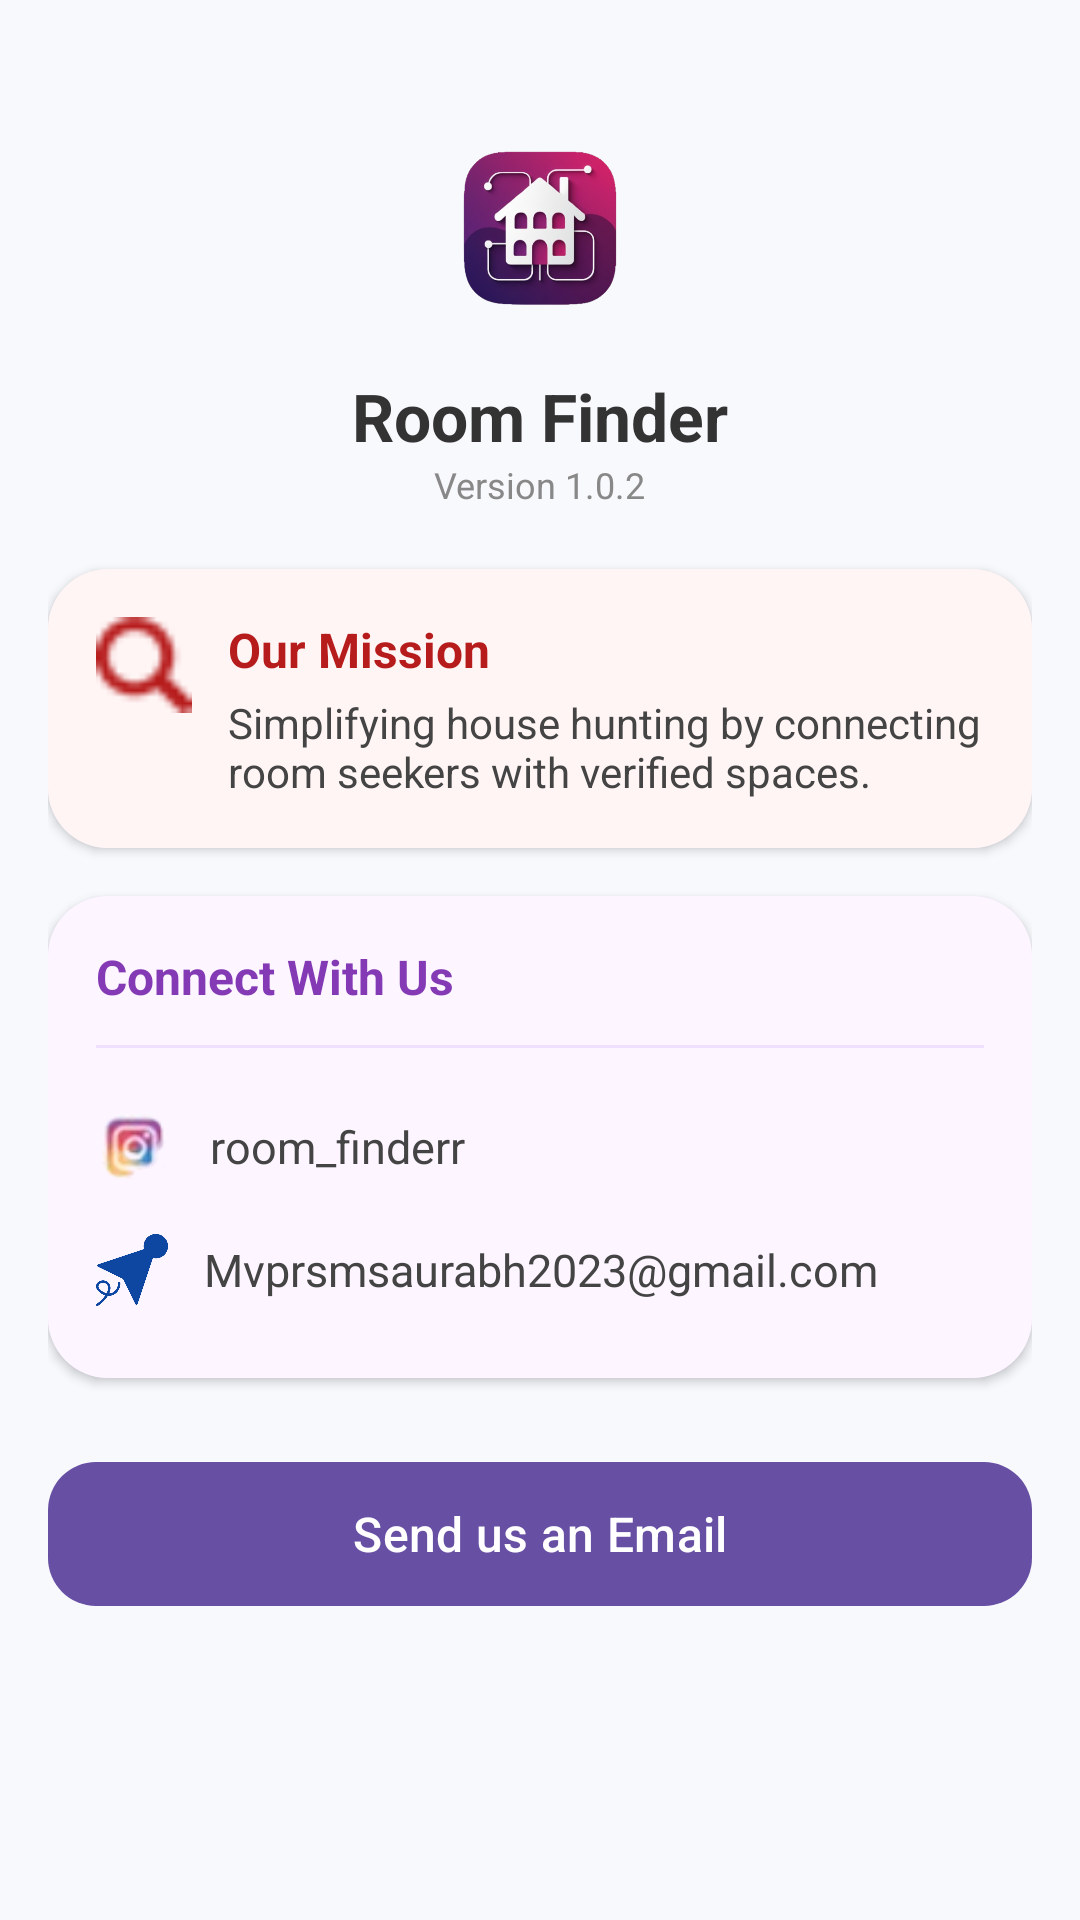

Icon click points for this 1080*1920 phone screenshot, format [x,y]:
search: [144,665]
